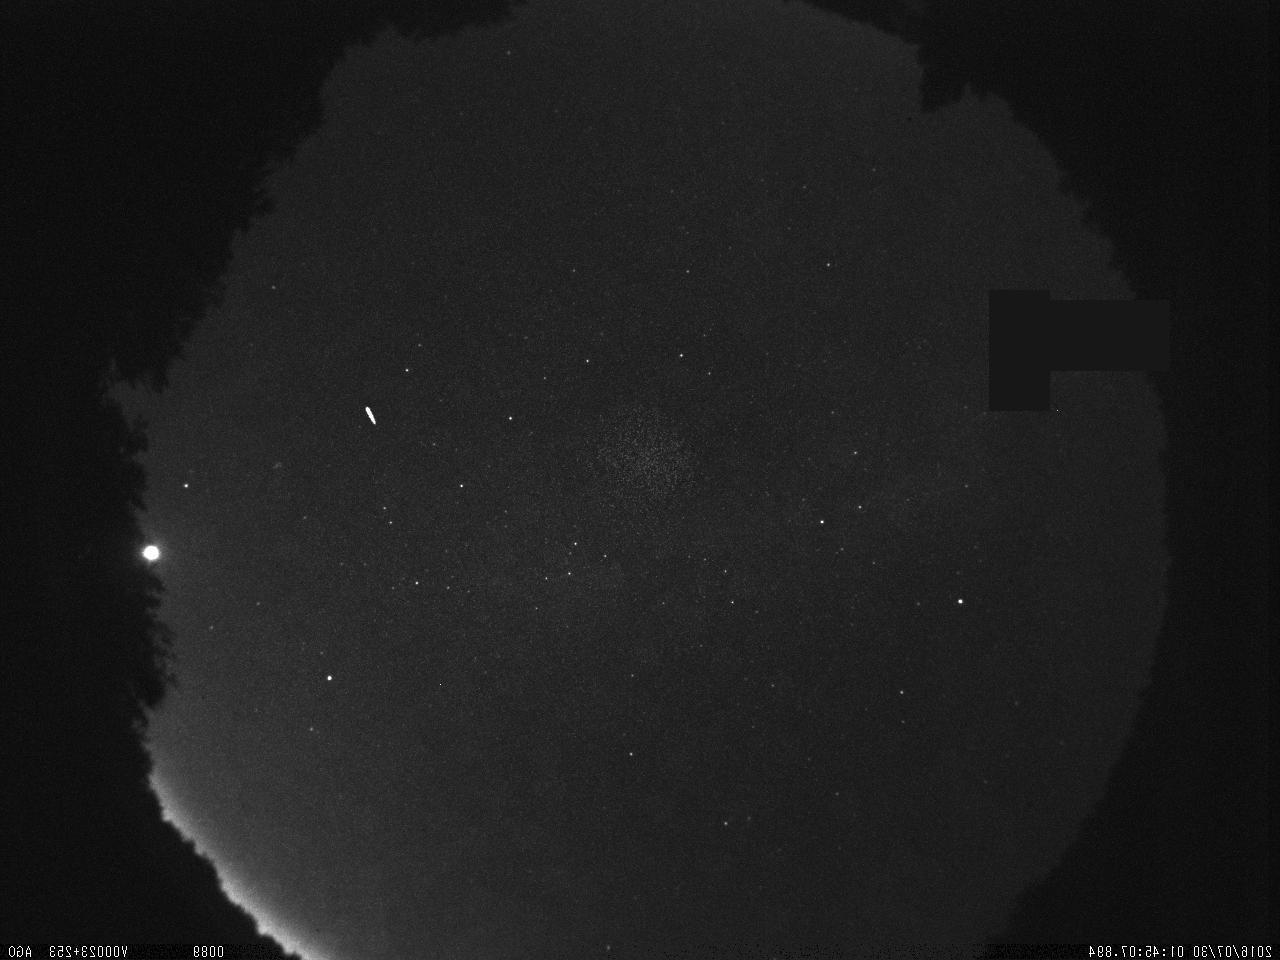meteor: (353, 387, 385, 442)
